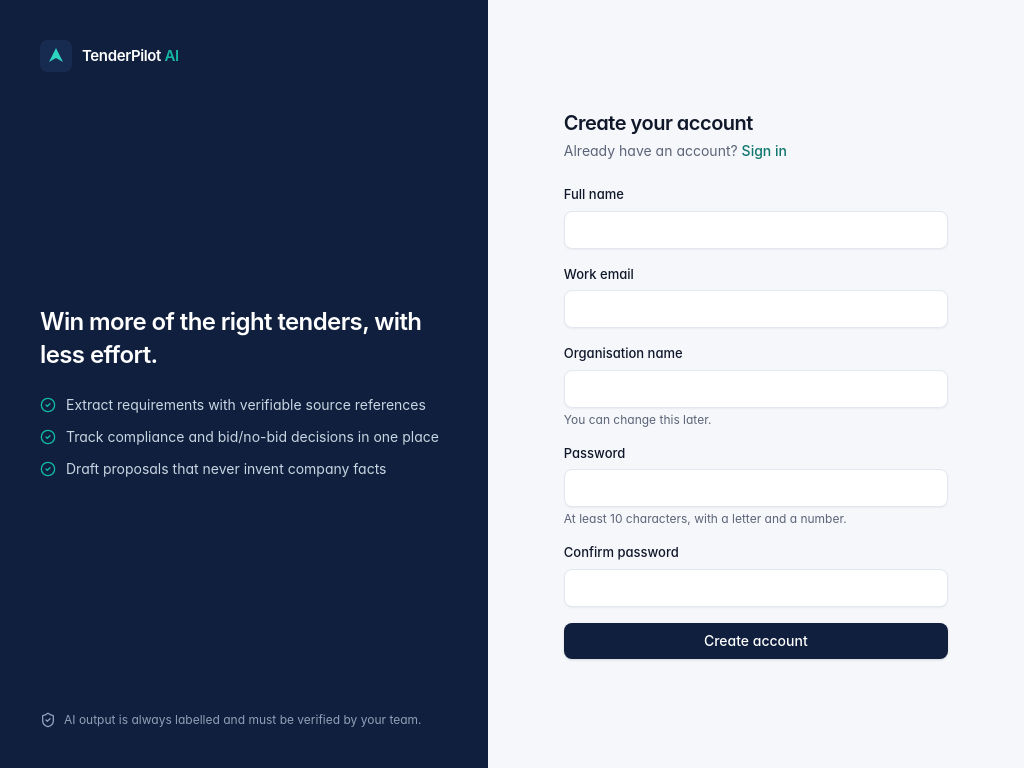
Test: authentication pages › enforces password rules on registration
The image size is (1024, 768).
Type "Ann" into the field labelled "Full name".
click(756, 230); type("Ann")  # box [564,211,948,249]
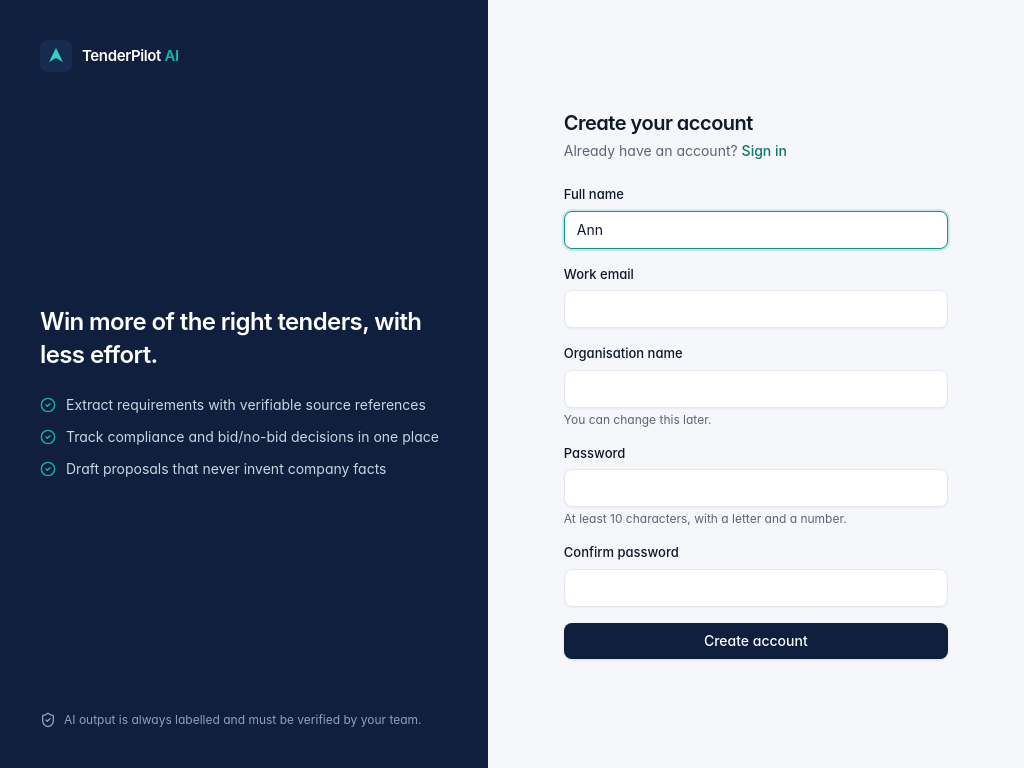
Type "ann@example.com" into the field labelled "Work email".
click(756, 309); type("ann@example.com")  # box [564,290,948,328]
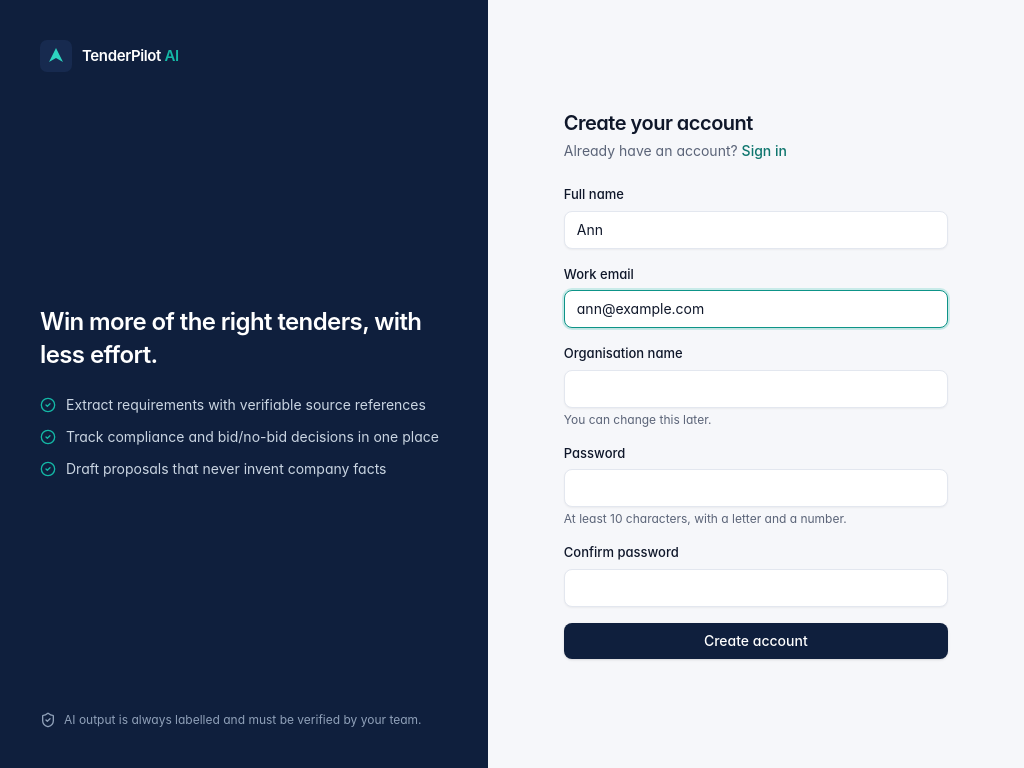
Type "short" into the password field labelled "Password".
click(756, 488); type("short")  # box [564,469,948,507]
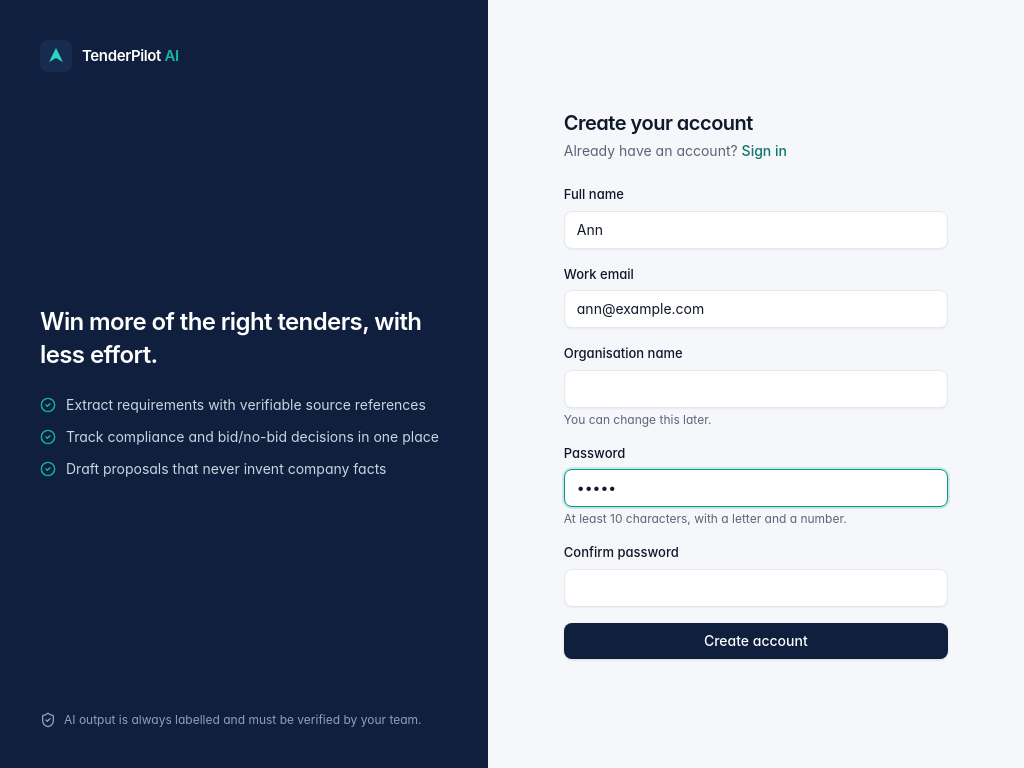
Type "different" into the password field labelled "Confirm password".
click(756, 588); type("different")  # box [564,569,948,607]
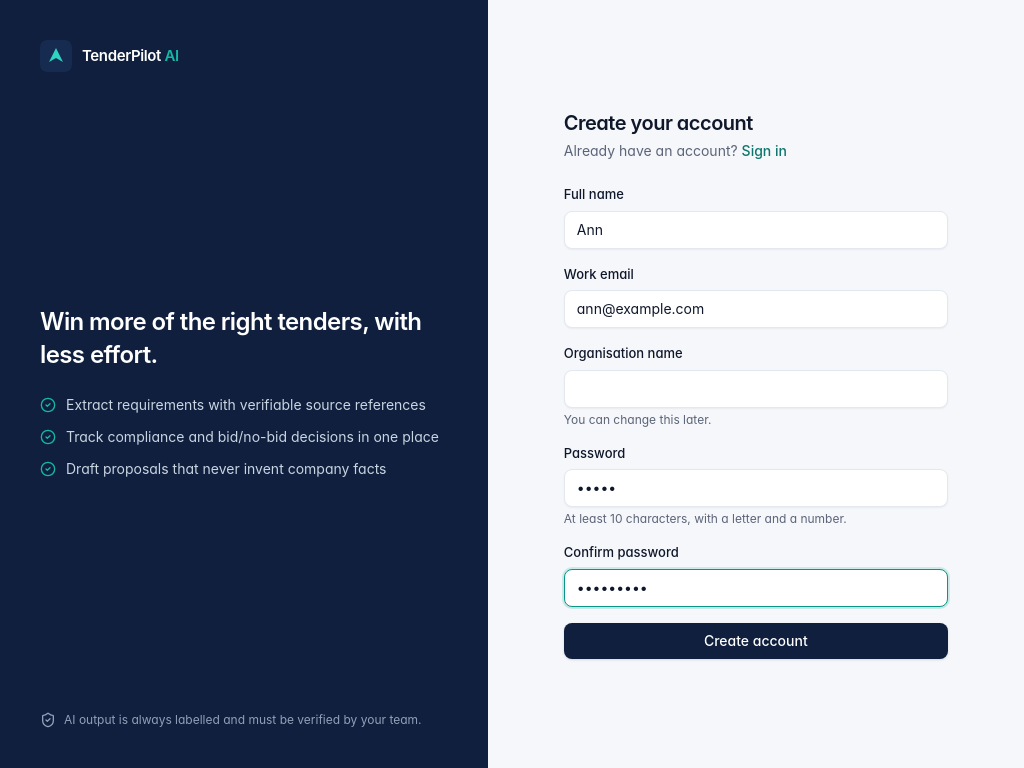
Click the button "Create account".
click(756, 641)  # box [564,623,948,659]
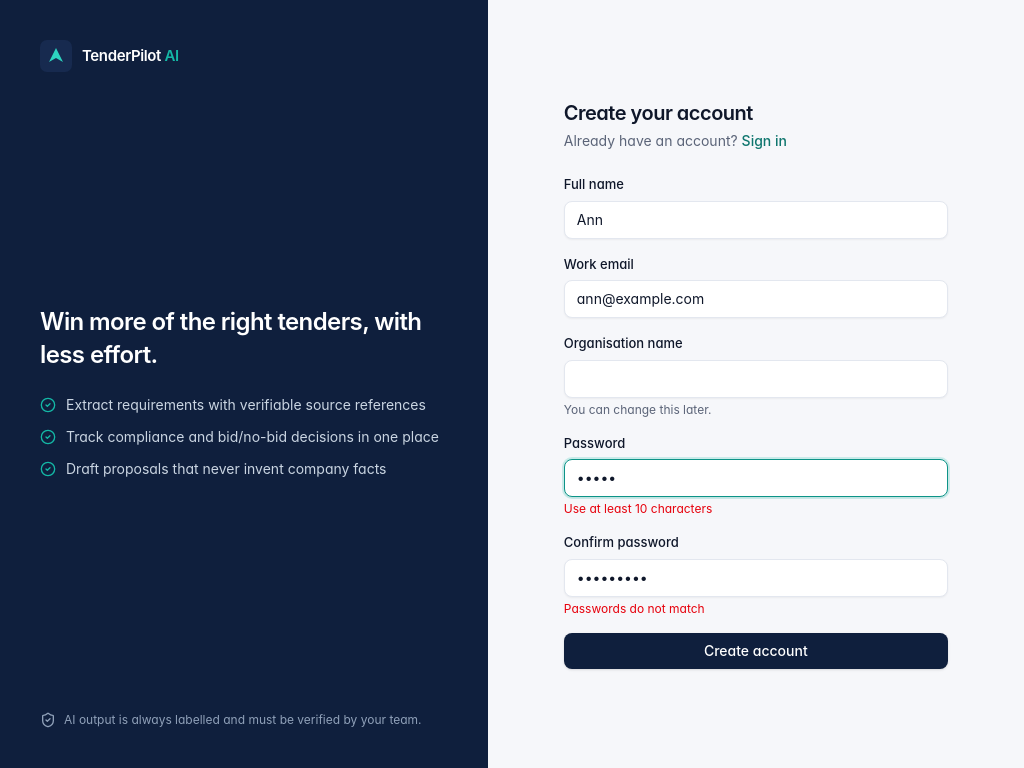
Expected: the text "Use at least 10 characters" is shown, [564,501,712,516]
Expected: the text "Passwords do not match" is shown, [564,601,705,616]
